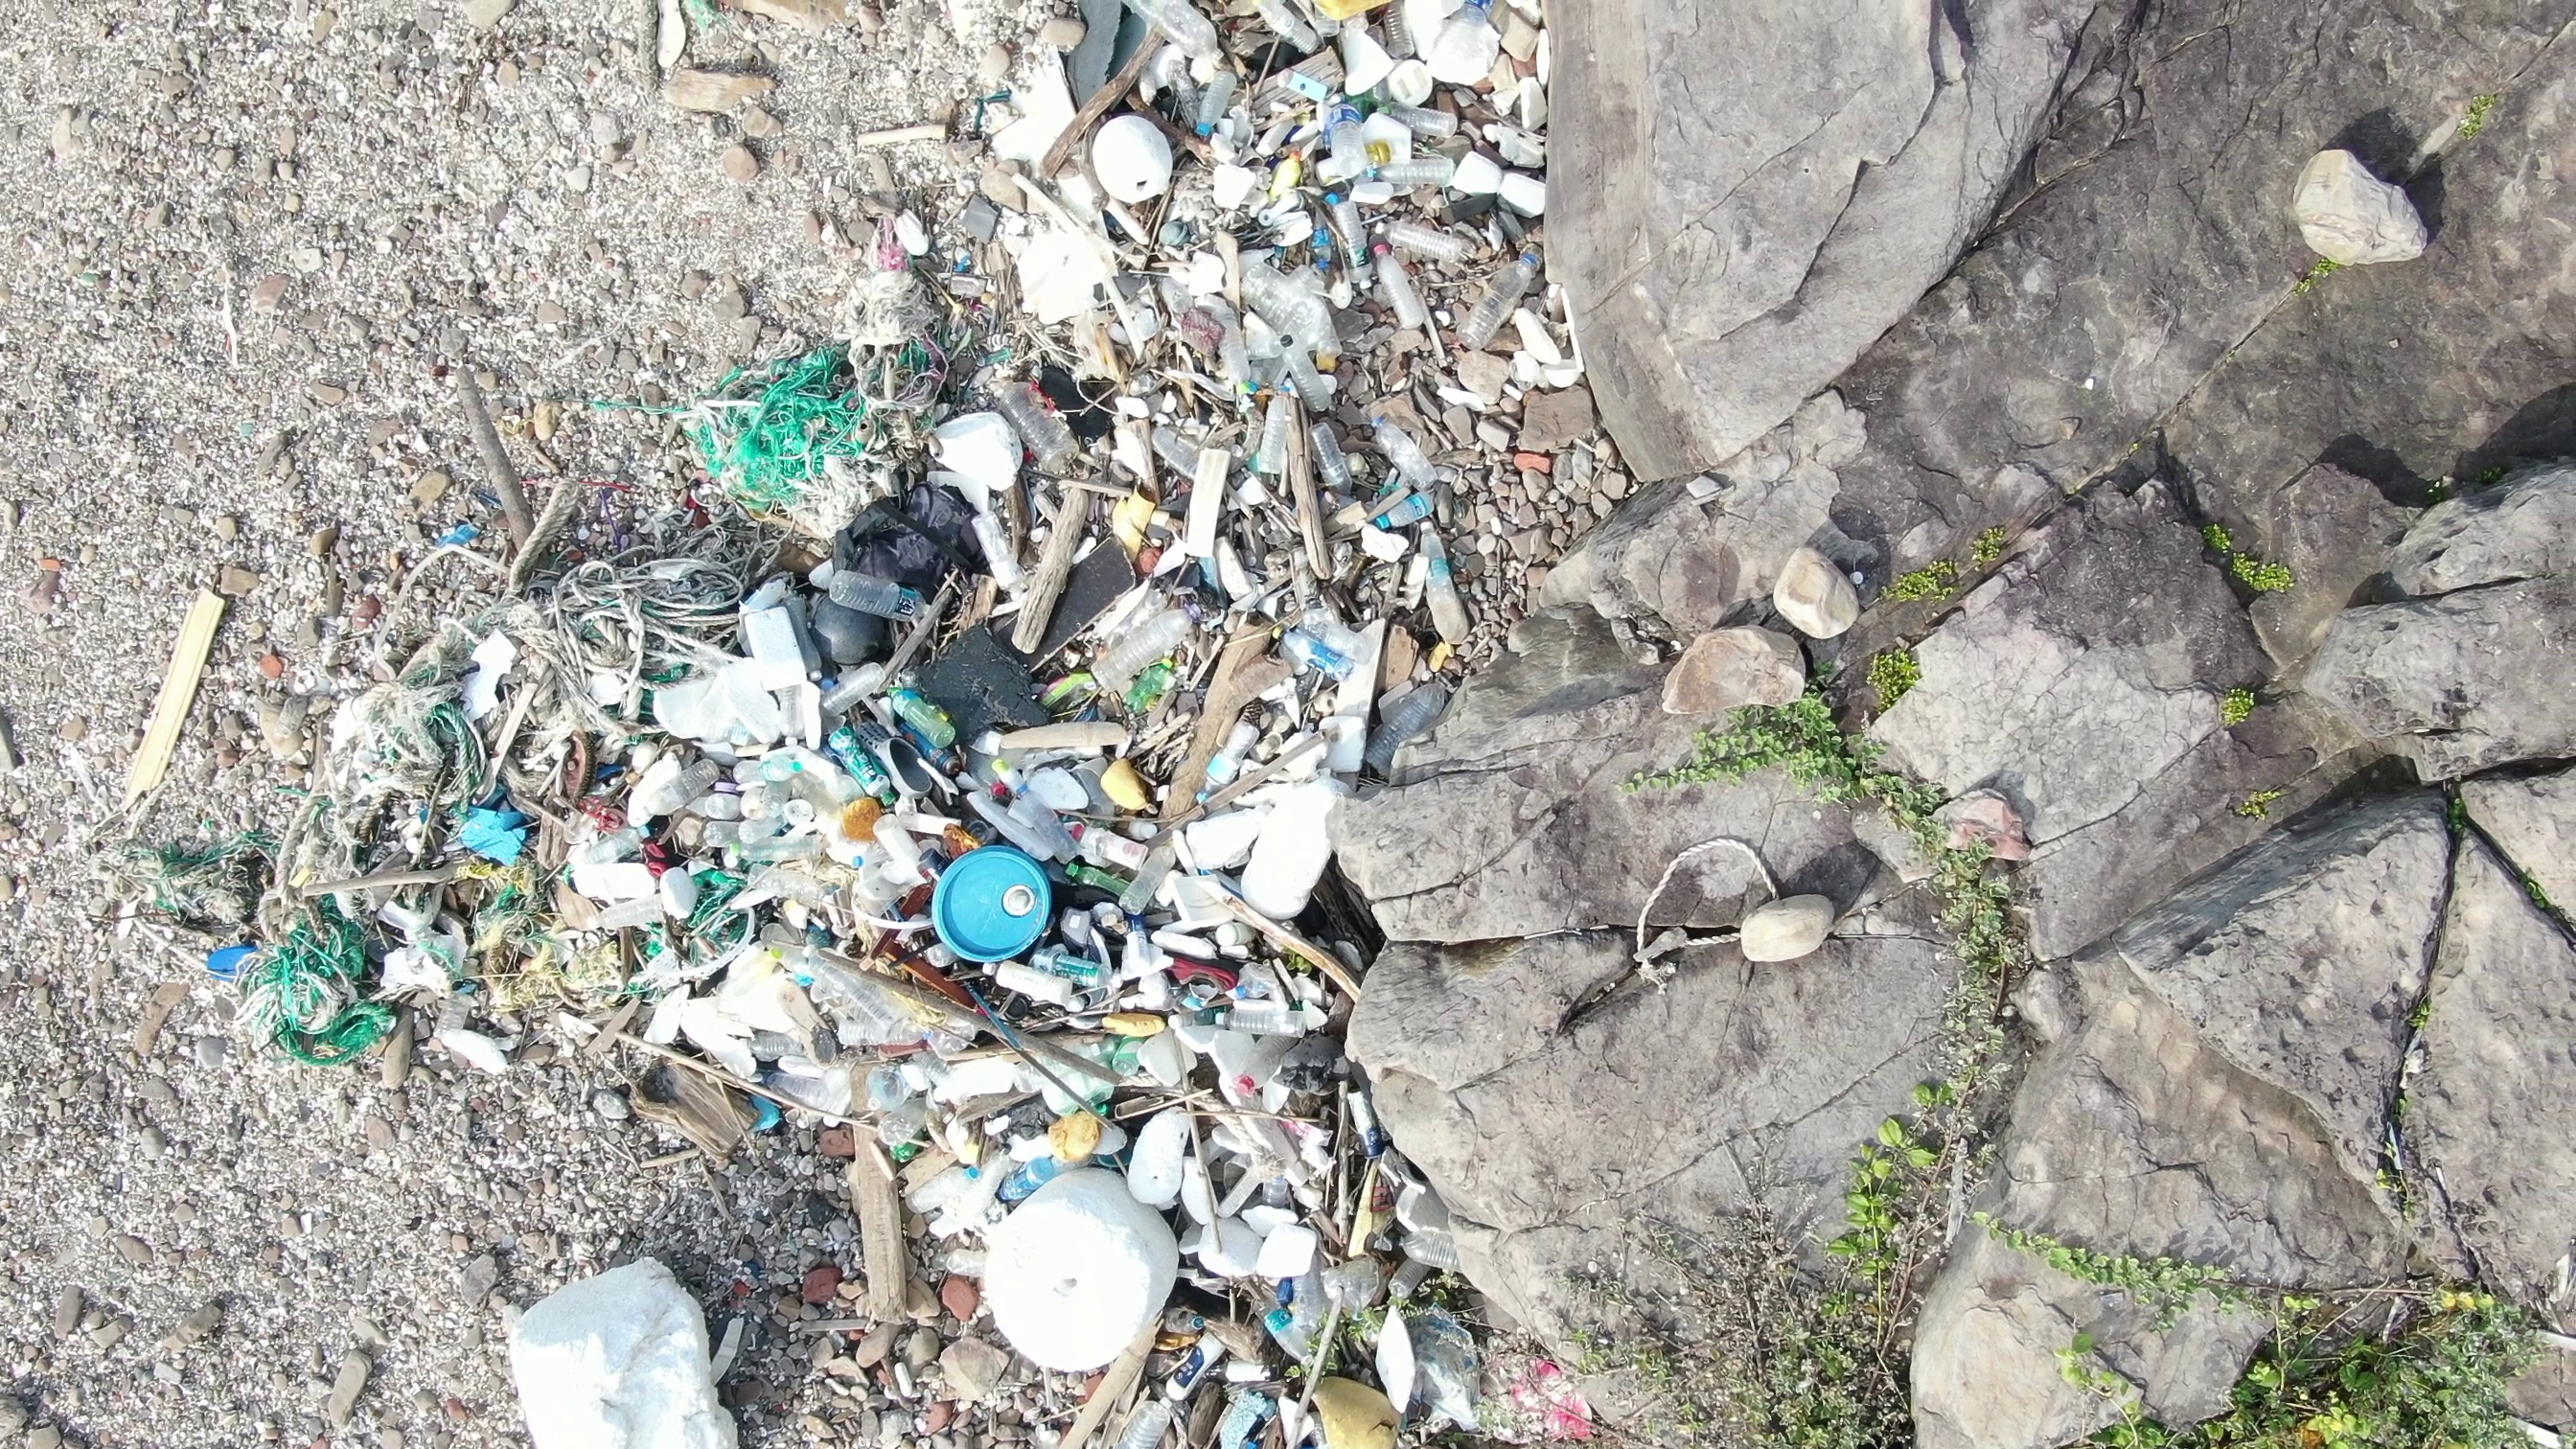bottle: (1359, 674, 1461, 775), (1456, 249, 1543, 357), (1226, 1269, 1322, 1364), (993, 377, 1085, 476), (980, 948, 1118, 1014), (1412, 513, 1474, 648), (1115, 2, 1235, 67), (819, 554, 929, 623), (821, 715, 895, 809), (1361, 218, 1468, 269), (1318, 83, 1369, 189), (1382, 78, 1461, 143), (1295, 423, 1366, 495), (1184, 73, 1247, 152), (1359, 478, 1444, 536), (1260, 623, 1355, 674), (890, 678, 959, 745), (1277, 333, 1329, 410), (1364, 156, 1483, 189), (1060, 849, 1143, 893), (1069, 807, 1139, 855), (993, 1164, 1062, 1205)
garbage: (892, 7, 1573, 1447), (113, 235, 899, 1161), (1635, 824, 1844, 977)
